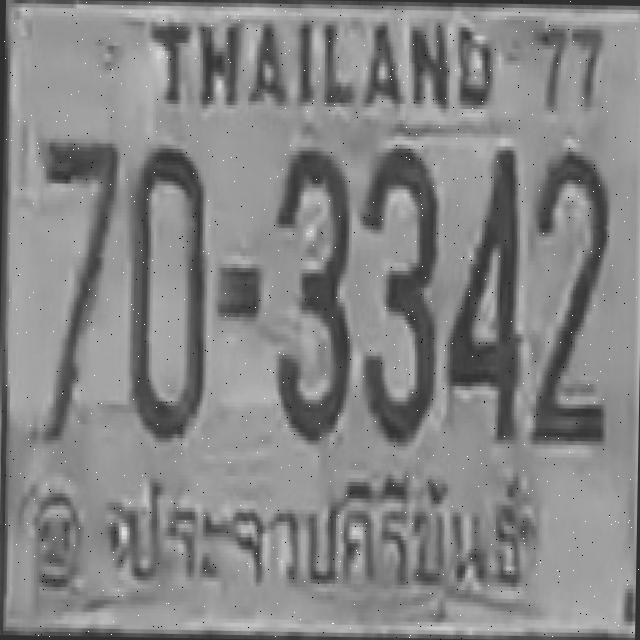0: (126, 146, 210, 440)
2: (530, 148, 610, 444), (528, 144, 609, 422)
3: (270, 144, 352, 443), (358, 144, 438, 442)
4: (446, 145, 524, 440)
7: (38, 136, 118, 439), (39, 138, 119, 347)
PrachuapKhiriKhan: (100, 455, 548, 612)
